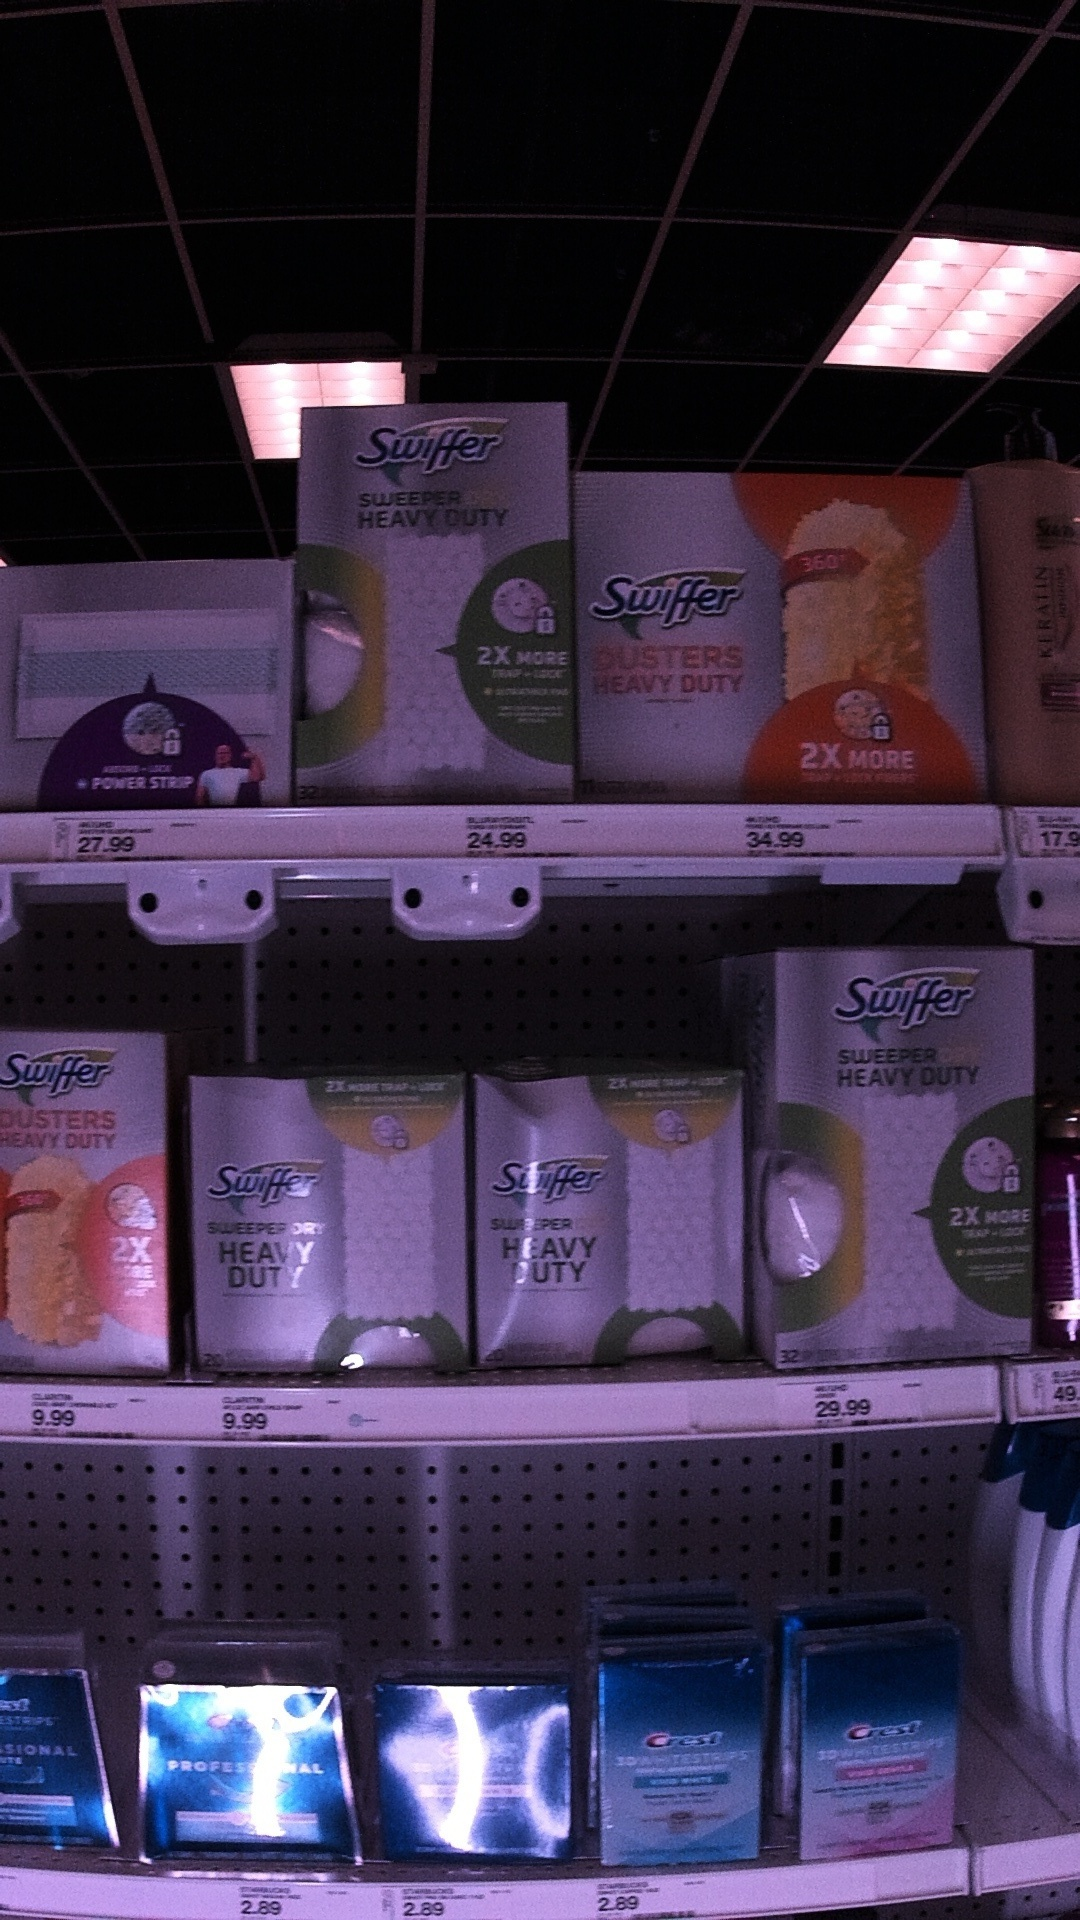ptag: (214, 1377, 338, 1449), (729, 800, 864, 862), (26, 1379, 149, 1447), (795, 1373, 935, 1431), (454, 811, 593, 866), (55, 815, 198, 866), (584, 1875, 723, 1920), (382, 1884, 513, 1920), (222, 1875, 314, 1920)
